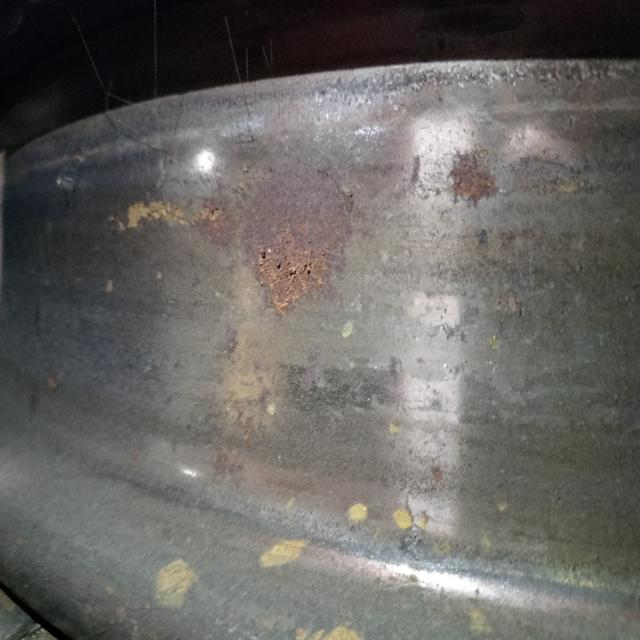Peeling: (104, 188, 245, 226)
